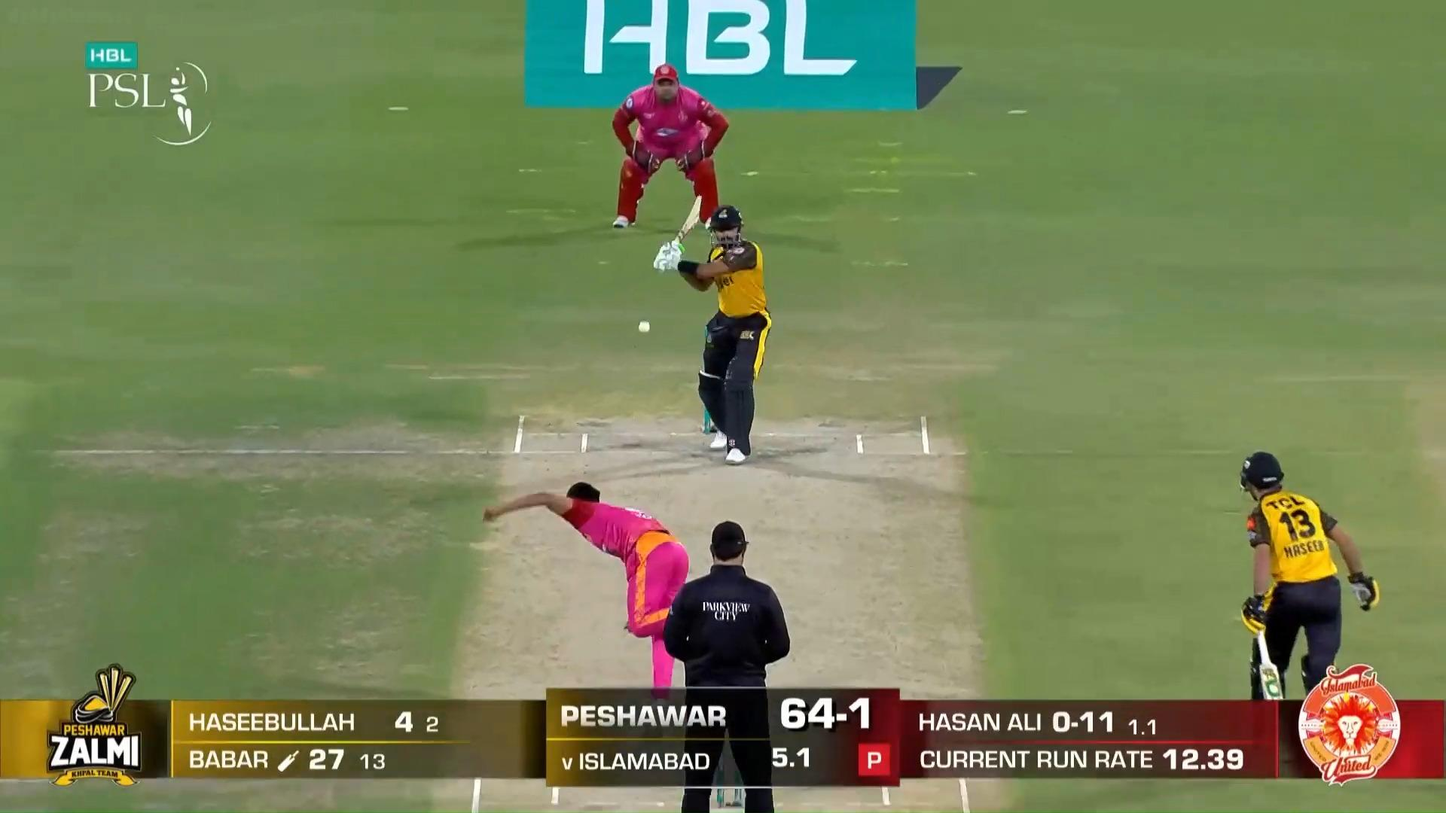batsman: (653, 195, 773, 465)
